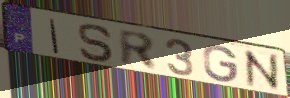3: (164, 38, 195, 77)
G: (202, 44, 239, 84)
I: (48, 16, 61, 56)
N: (242, 48, 284, 92)
R: (116, 27, 160, 73)
S: (76, 22, 117, 65)
